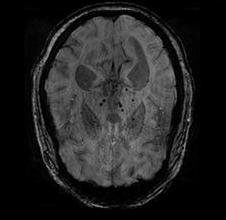Normal_Brain: (1, 1, 226, 220)
